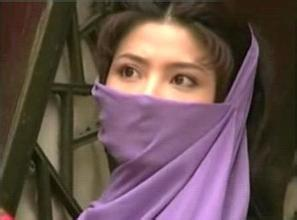WRONG: (101, 46, 223, 168)
